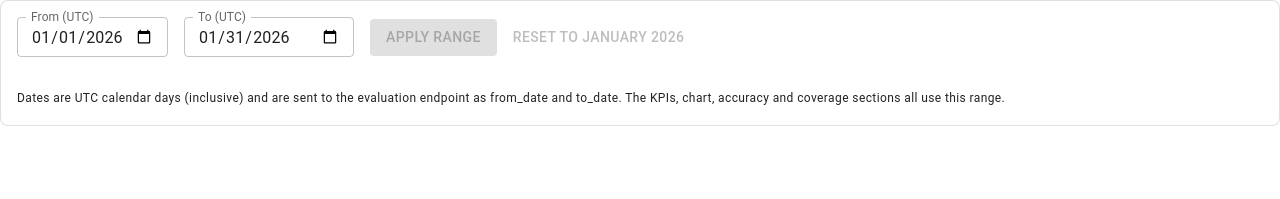
Test: DateRangeFilter › prevents applying an invalid range
This screenshot has width=1280, height=199.
Type "2026-02-10" into the date field labelled "From (UTC)".
click(92, 37); type("2026-02-10")  # box left=17, top=17, right=168, bottom=57
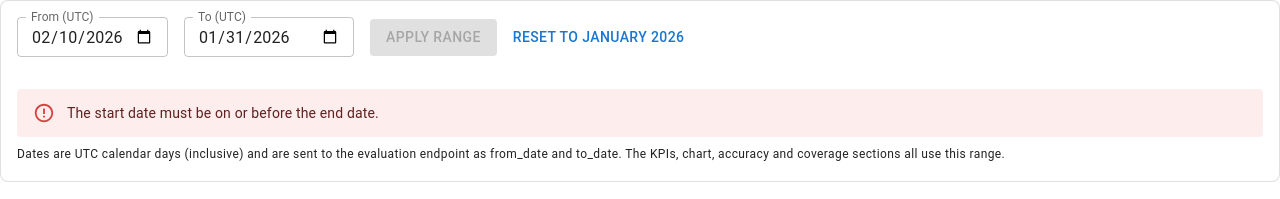
Expected: the button "Apply range" is disabled, left=370, top=19, right=497, bottom=56
Expected: the message shows "start date must be on or before the end date", left=67, top=105, right=379, bottom=121
